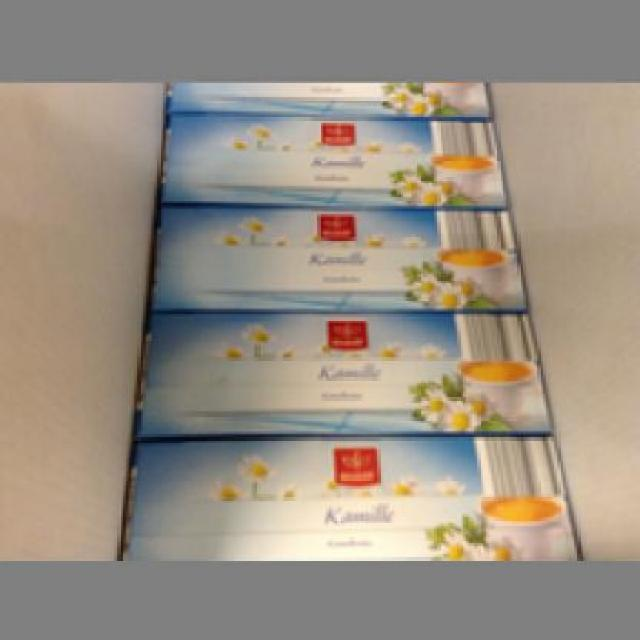Tea: (127, 305, 564, 438), (112, 434, 578, 552), (146, 200, 528, 306), (157, 106, 512, 203)
